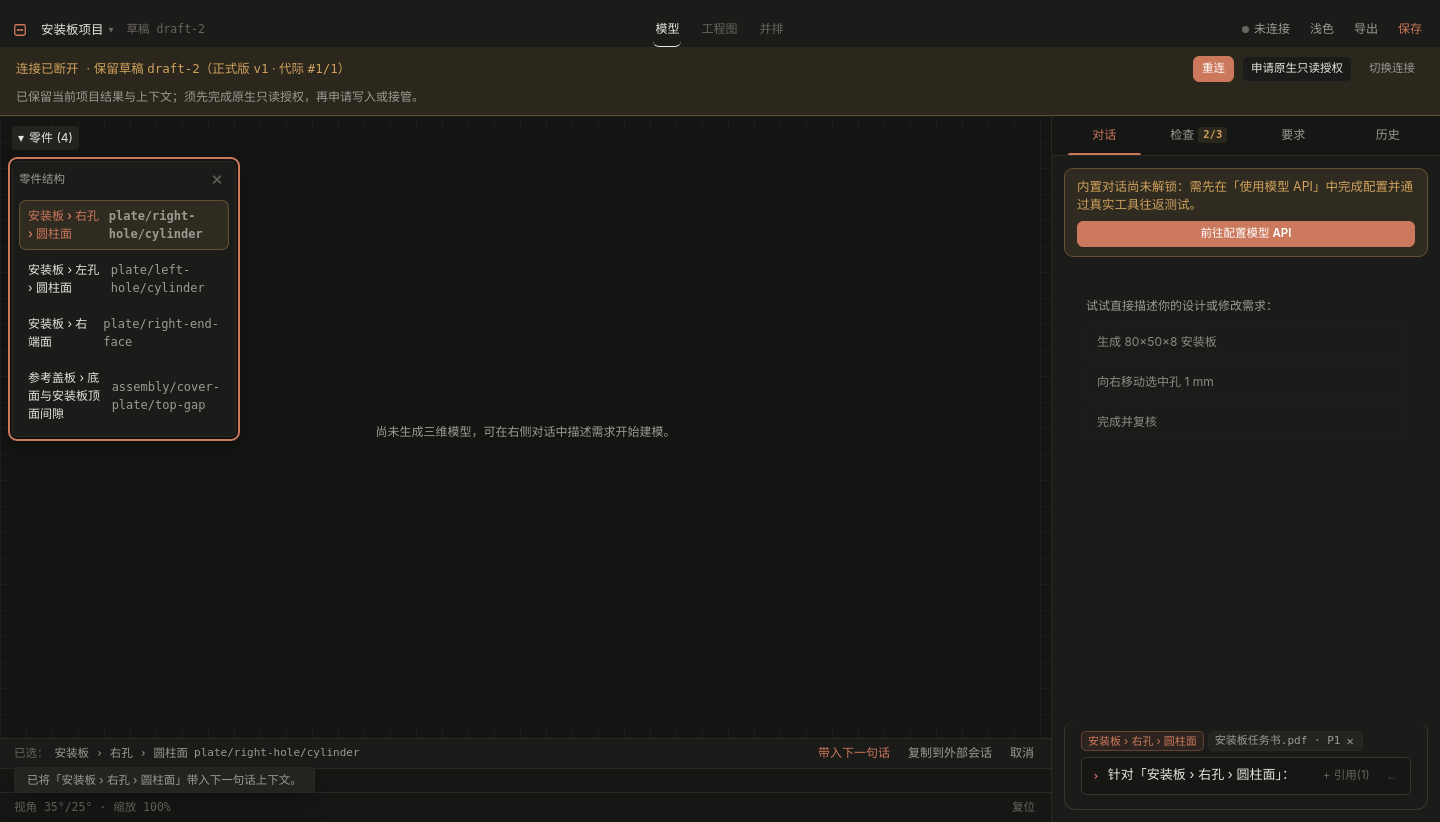
Test: ProjectAgentM1Workbench (M2-FE-01 双视图联动、对象上下文与检查定位) › 对象引用上下文区提供层级路径与三个操作，并支持键盘在对象列表、画布和侧栏间切换定位
The image size is (1440, 822).
Earlier steps of the test are not shown.
Press F6
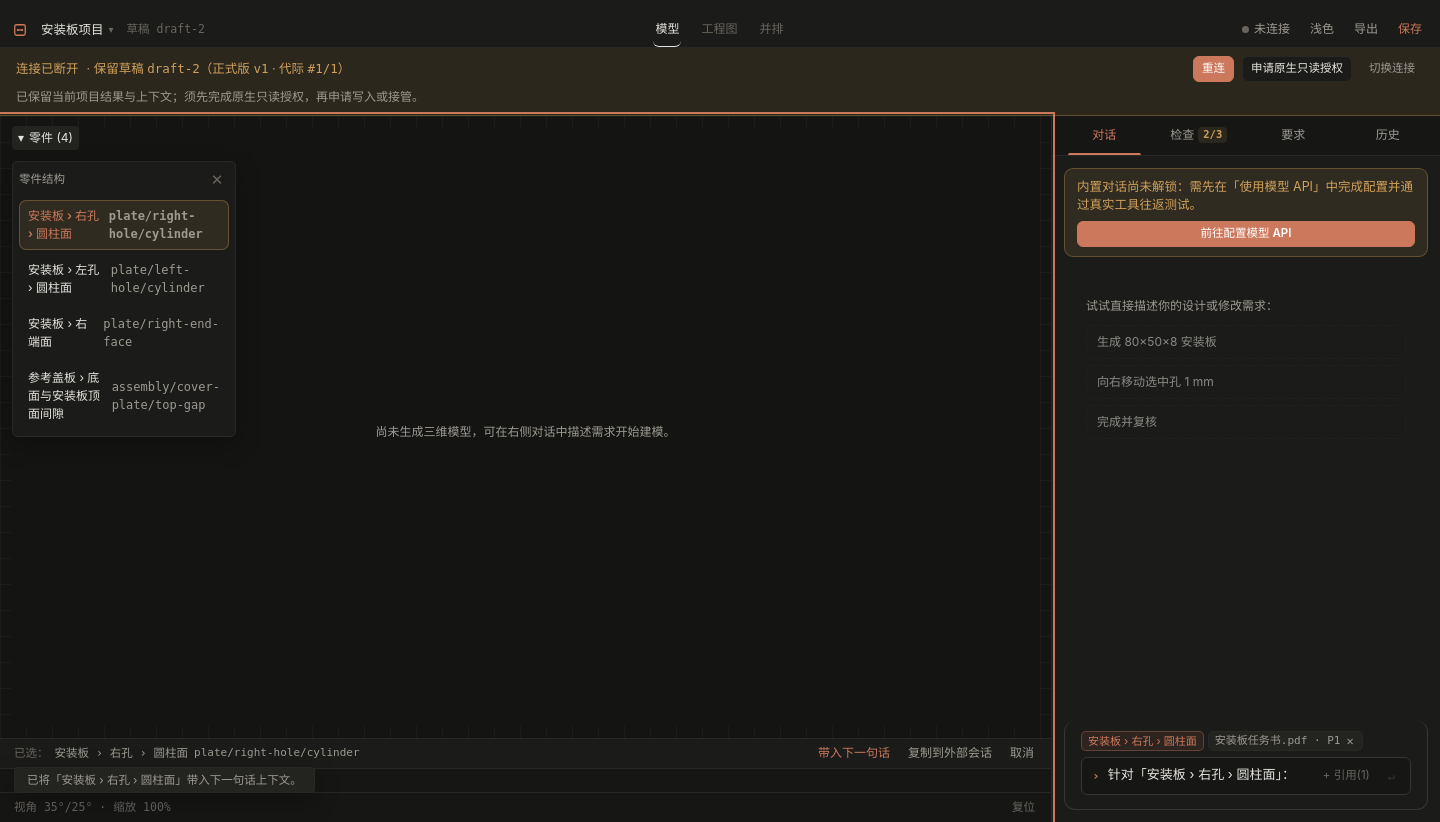
Press F6
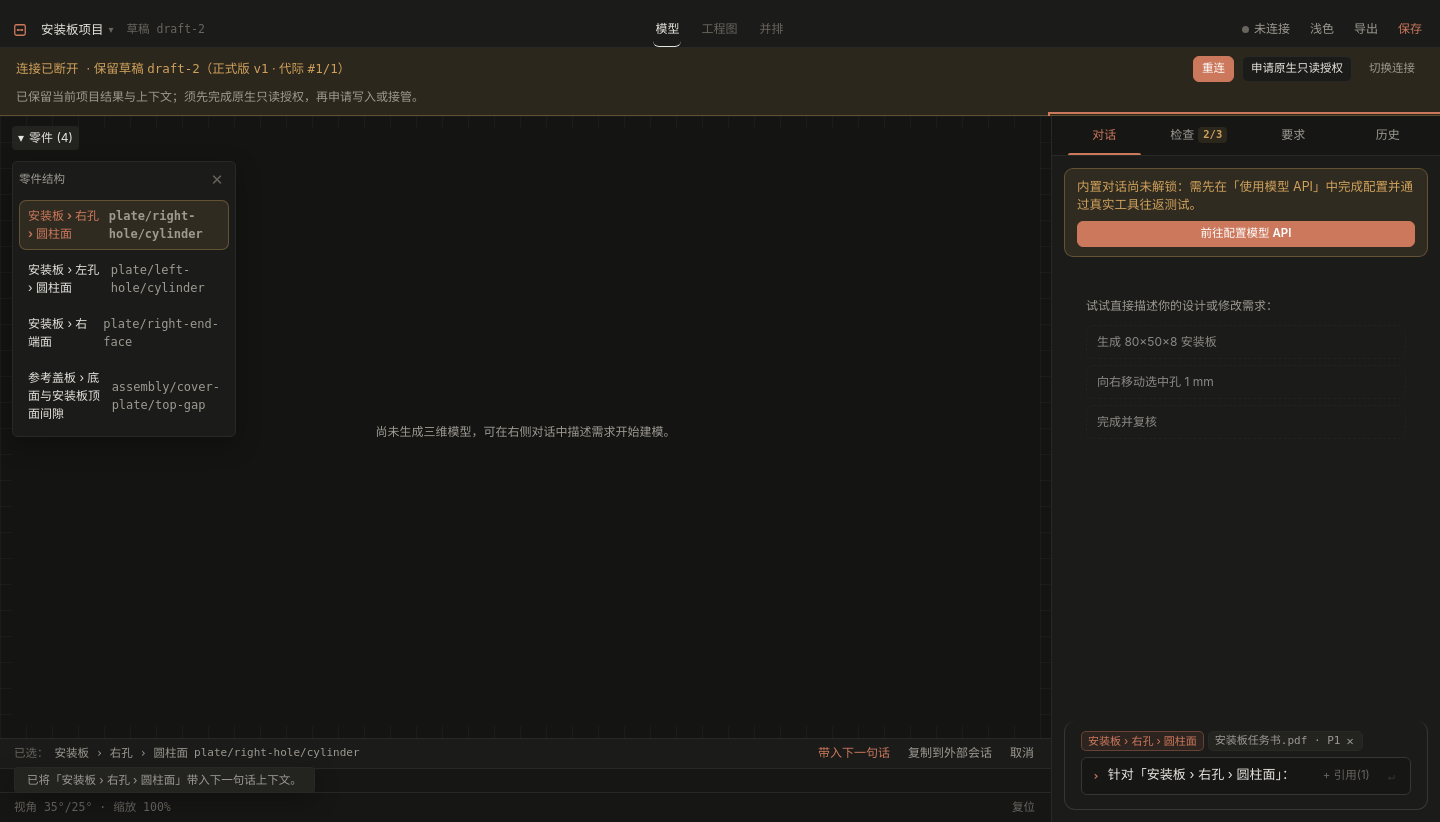
Type keys "{Shift>}{F6}{/Shift}"
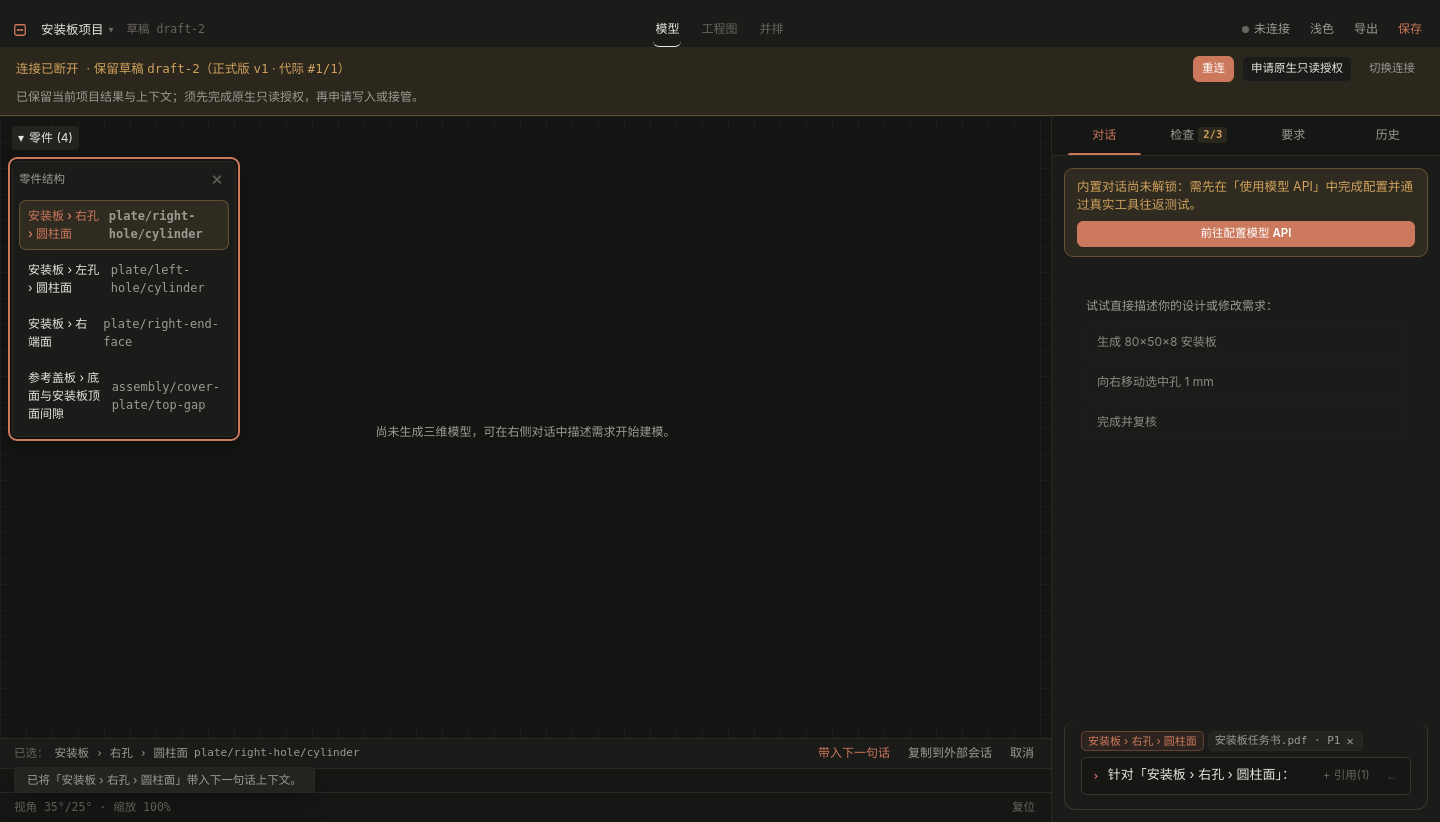
Press Arrowdown
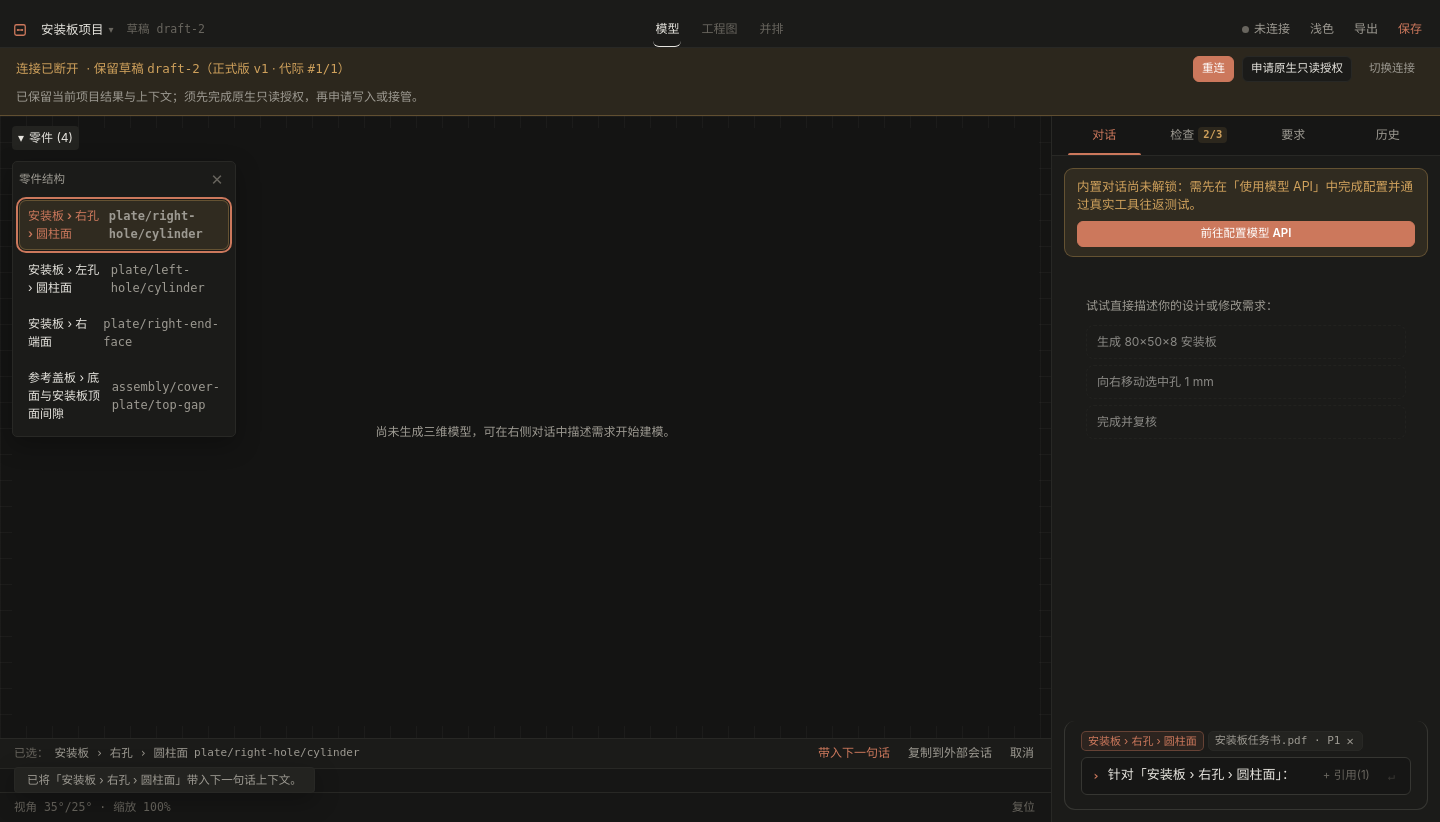
Press Arrowdown
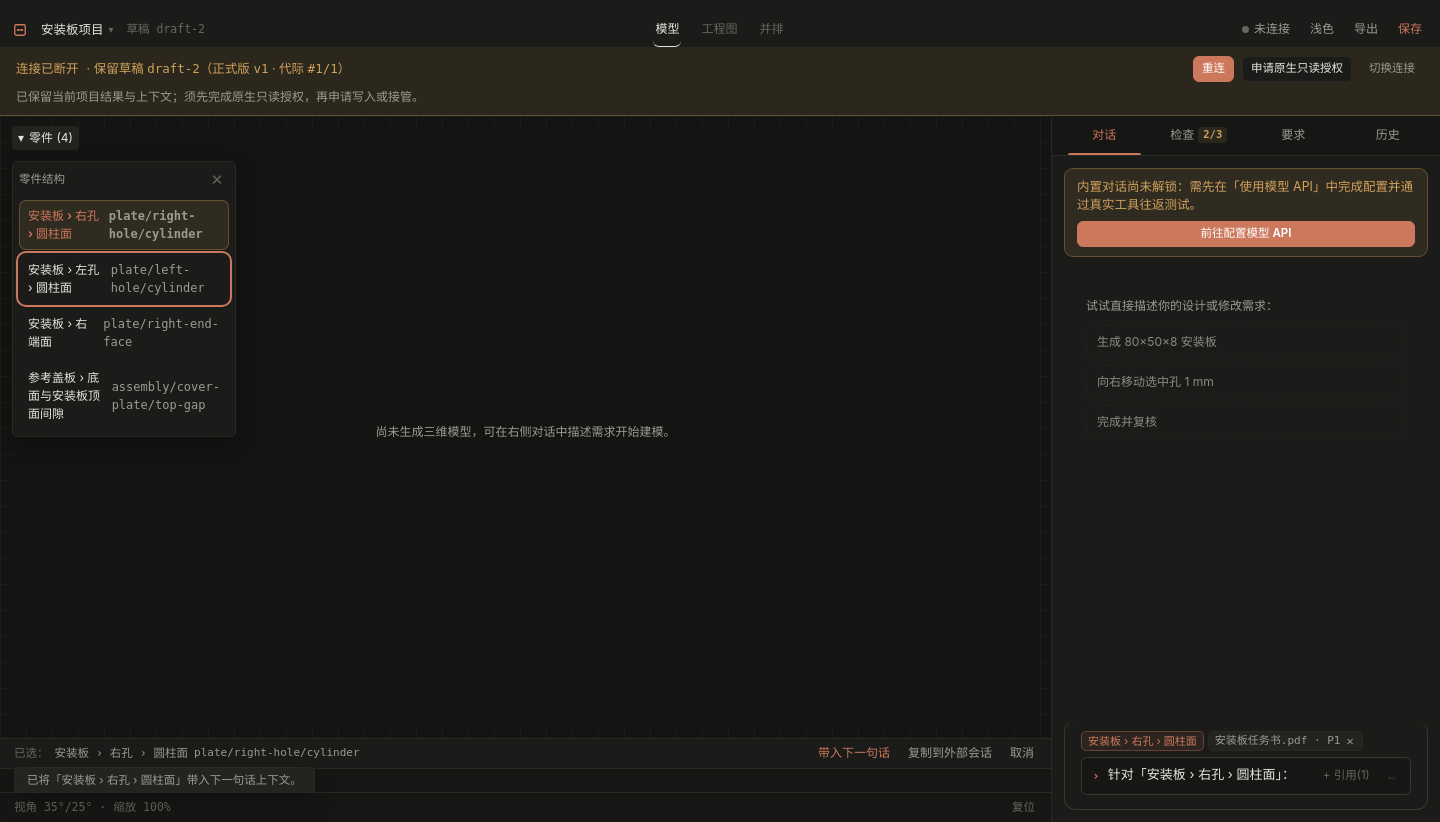
Note: 取消选择后，悬浮对象引用上下文条隐藏
Click the button with aria-label "取消选择": (1022, 753) [1007,742,1037,764]
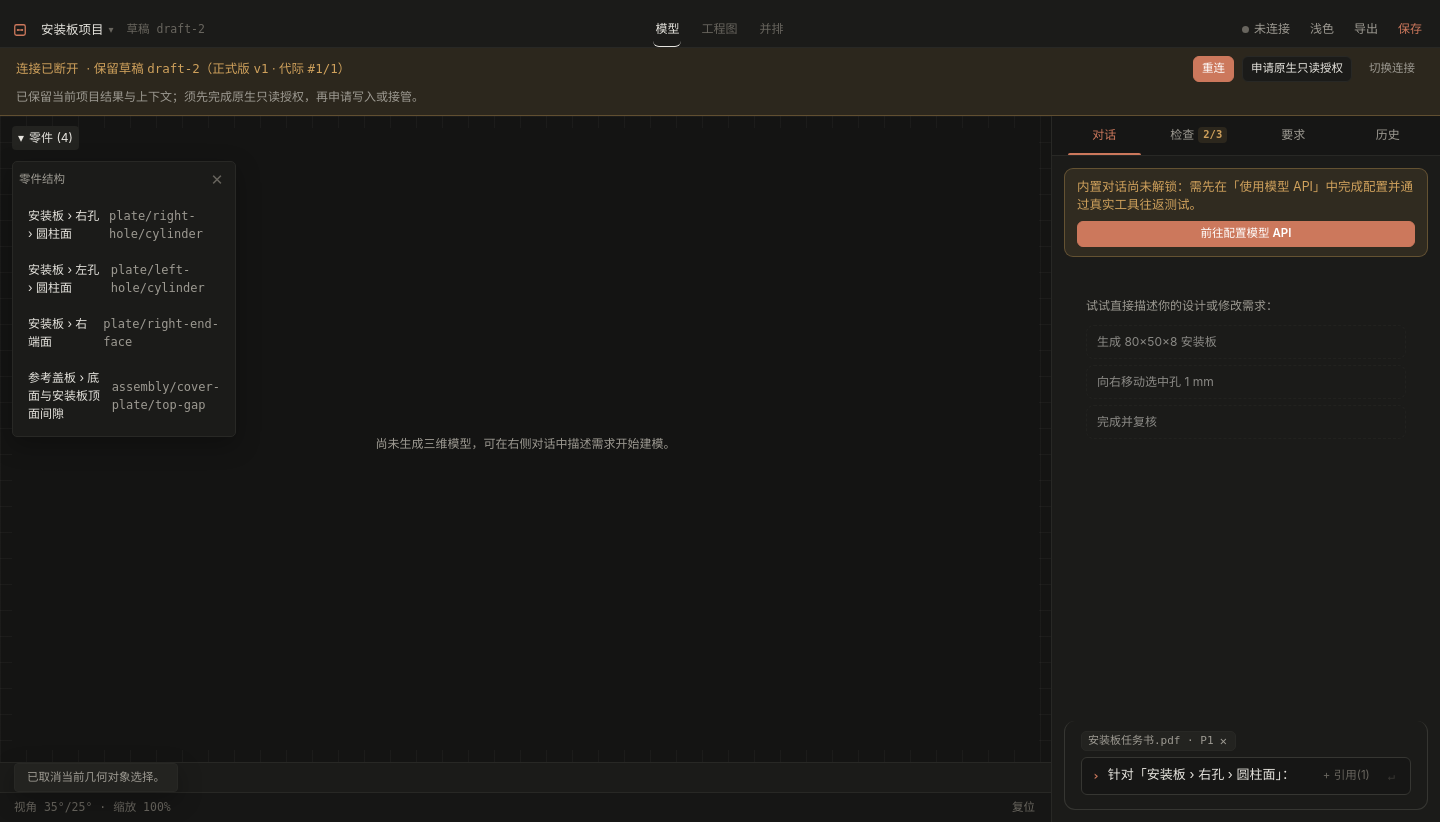
Check: the element "对象引用上下文区" is gone
